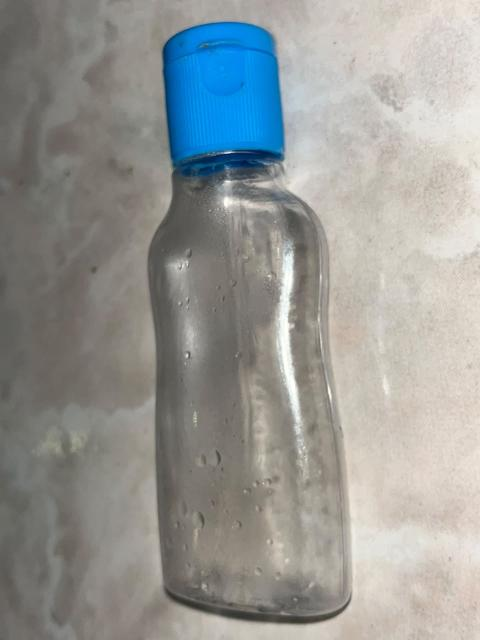PET: (107, 14, 409, 617)
